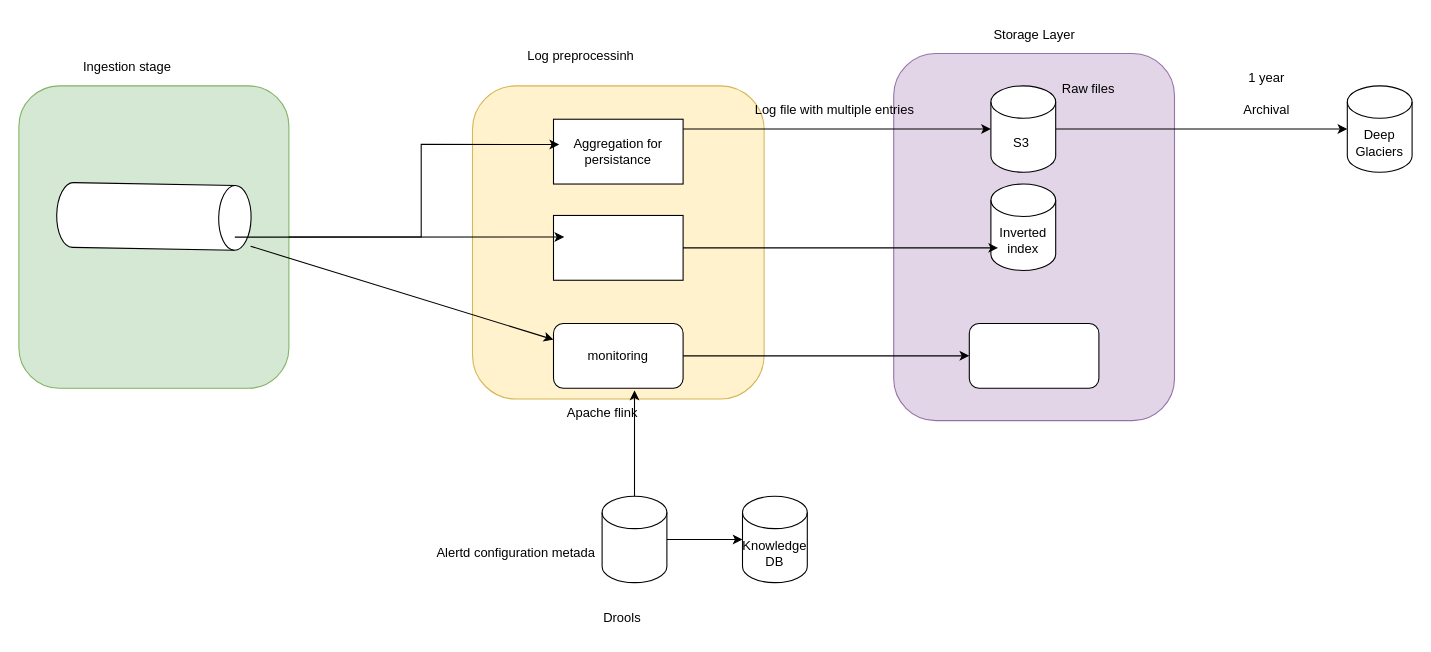
Image size: 1431x652. Some labels were removed from this diagram. The shapes that lost their labels are listed below. From the top down, each one's box as (x1, y1, x2, y2) in pixels, then its label:
(552, 214, 683, 280): indexing
(968, 322, 1099, 388): Dashboard
(601, 495, 667, 583): Rule Engine
